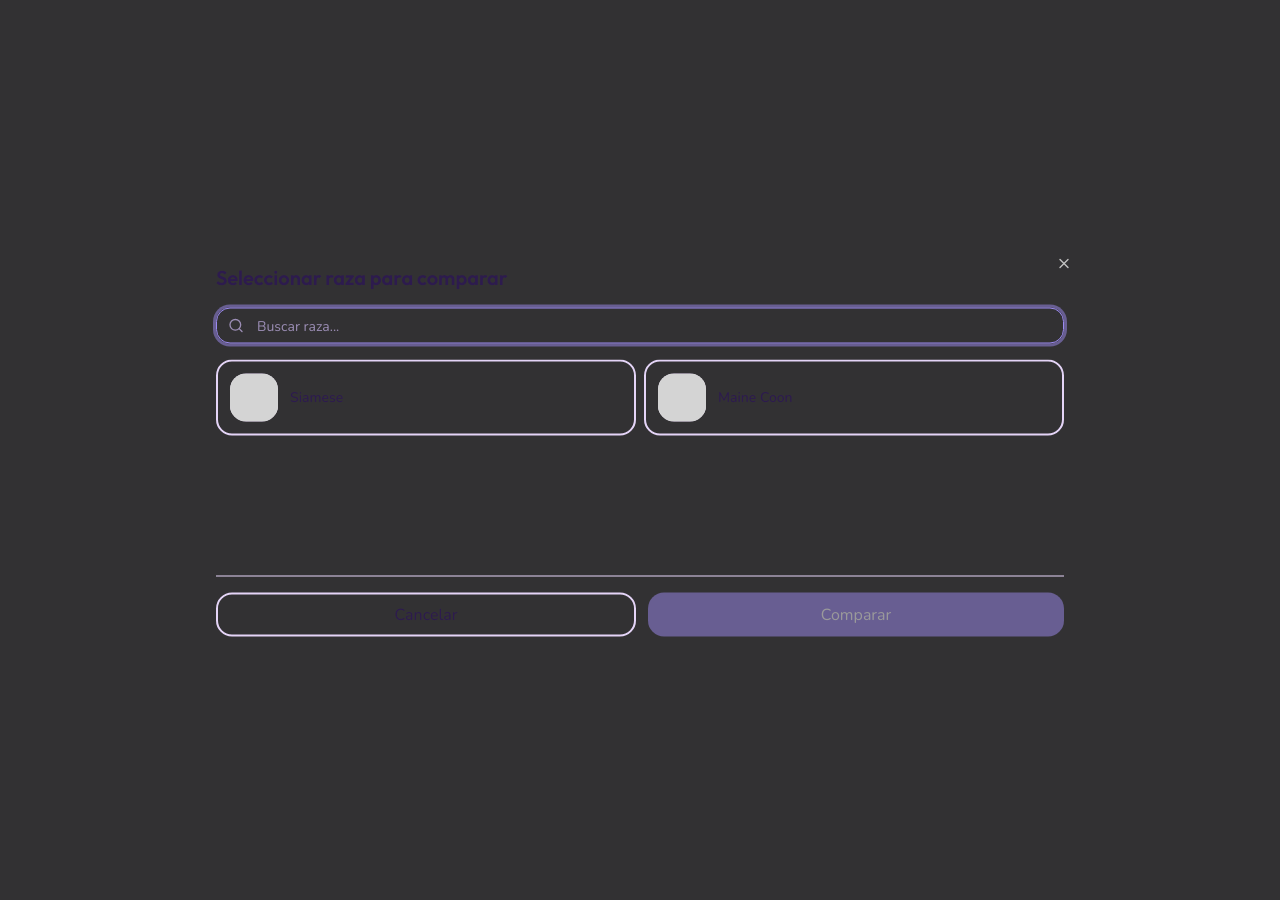
Scenario: BreedSelector › should show "No se encontraron razas" when no results
In the field with placeholder "Buscar raza...": {"x": 640, "y": 326} x1=216 y1=308 x2=1064 y2=344, type "XYZ"
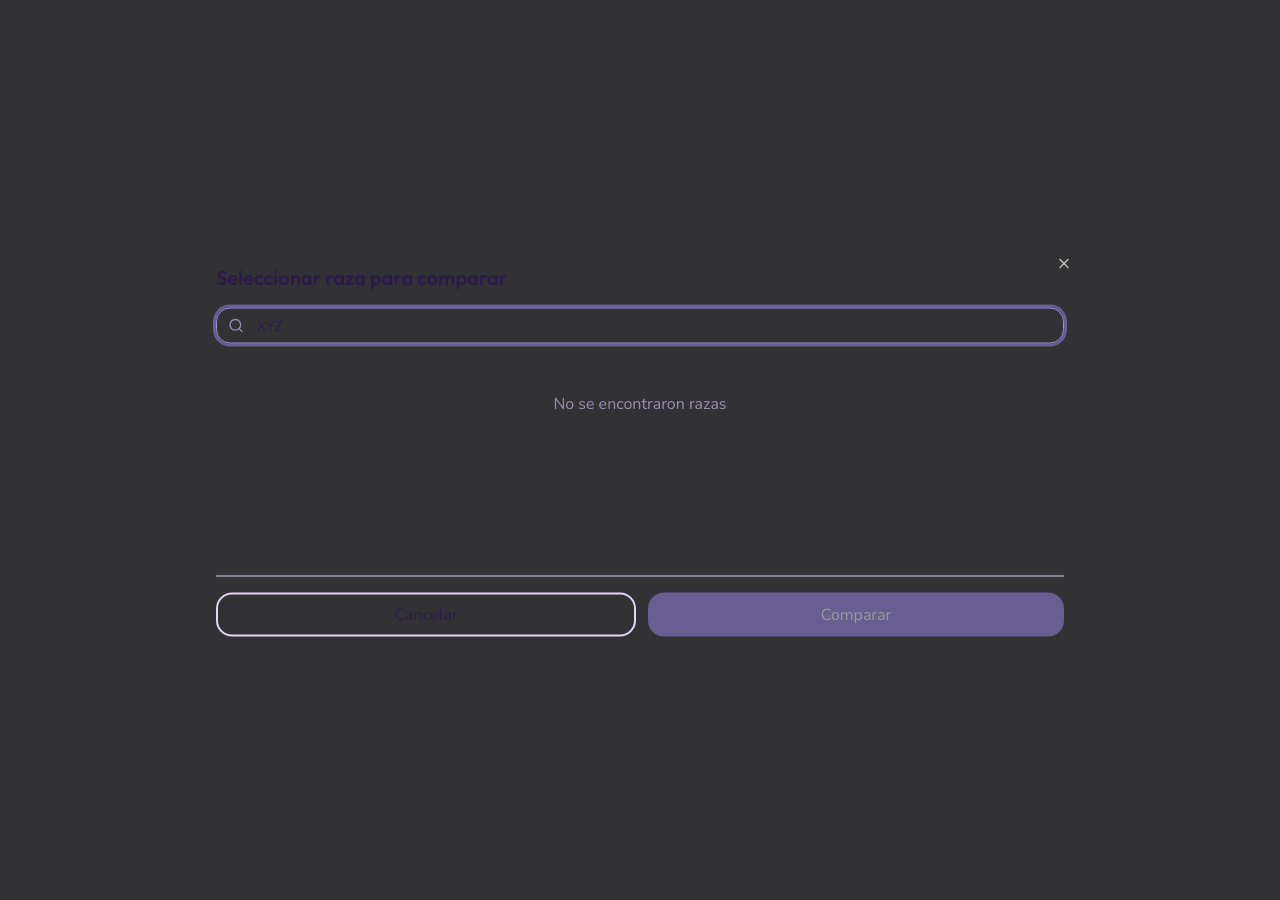
Check: the text "No se encontraron razas" is shown, box x1=553 y1=392 x2=726 y2=414
